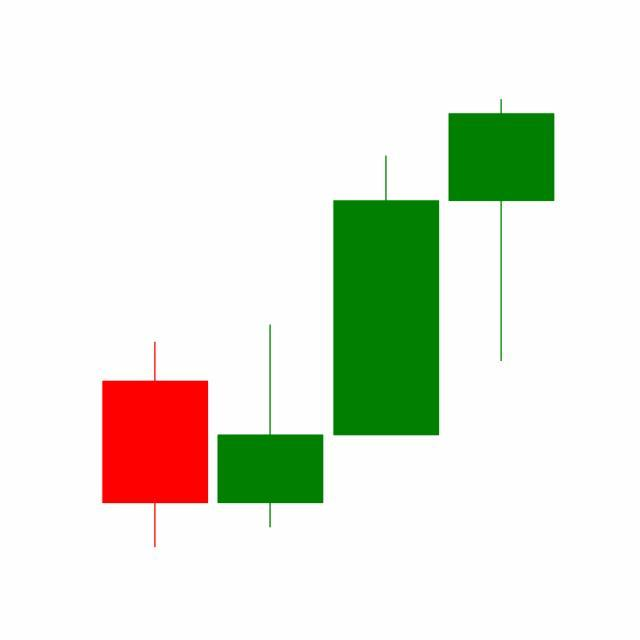Hanging Man: (444, 97, 560, 366)
